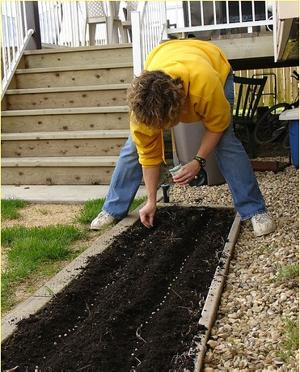person: (91, 40, 276, 238)
